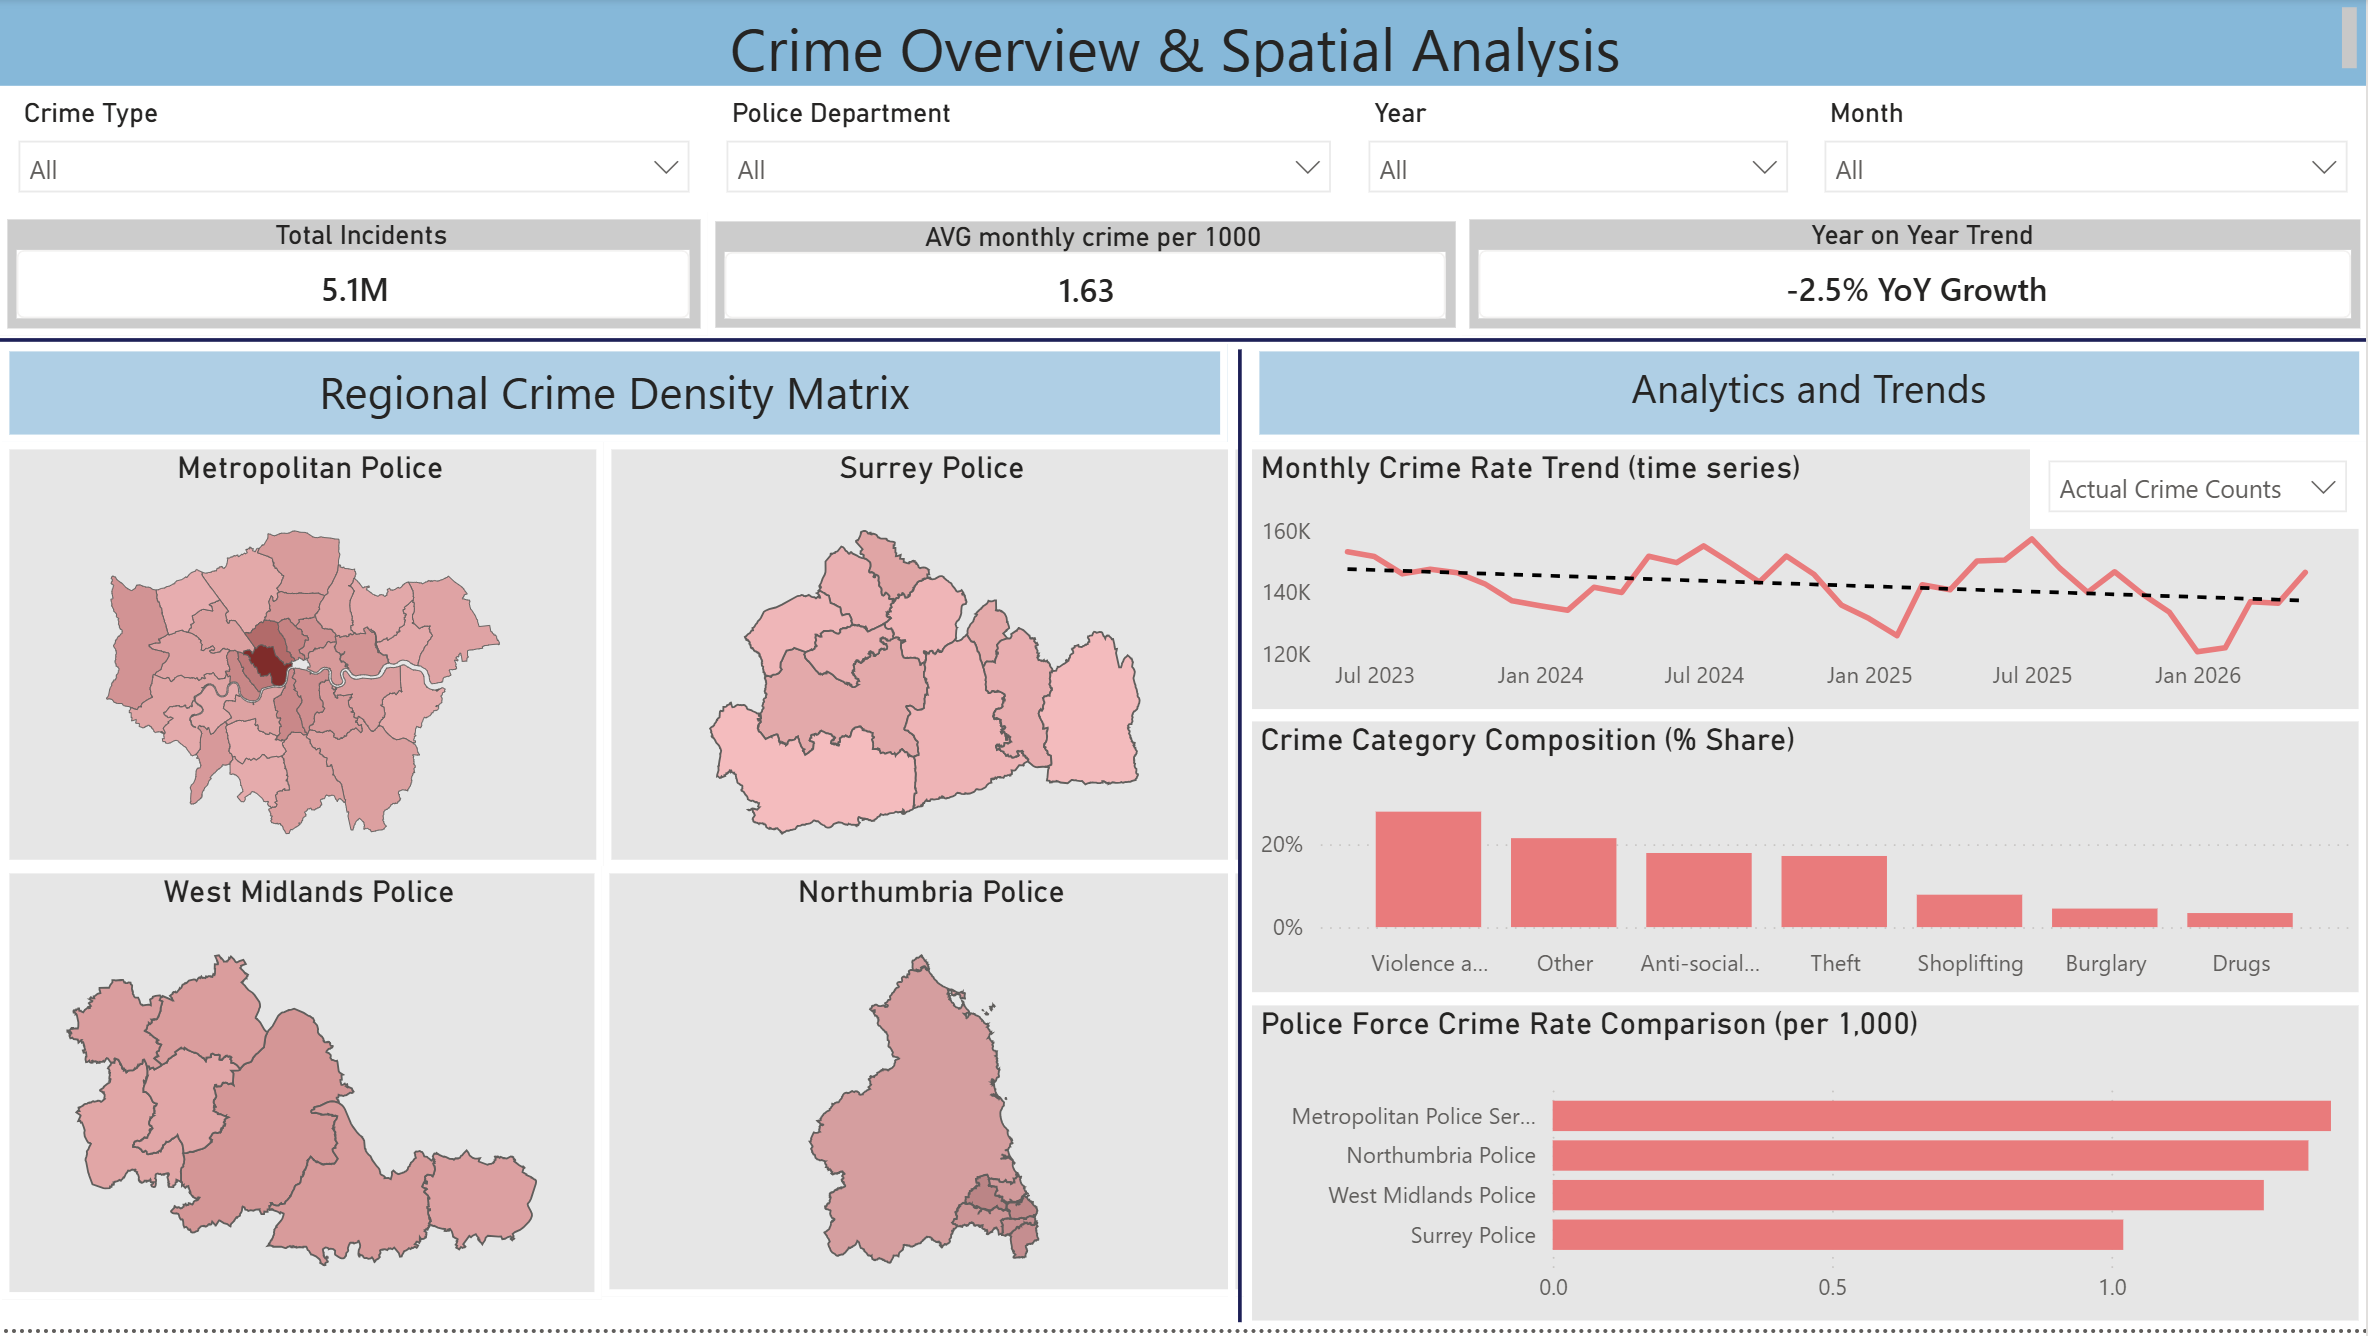

Layout of this report page (visuals, bound fields, positions):
{"tool":"powerbi","page":{"name":"Landing Page- Overview","canvas":[1280,720],"ordinal":0},"visuals":[{"type":"shapeMap","title":"Metropolitan Police","fields":{"Category":["LAD.LAD24CD"],"Value":["Sum(LAD.LogRatePer1000)"]},"box":[1.4,240,325.7,230],"z":0},{"type":"shapeMap","title":"Surrey Police","fields":{"Category":["LAD.LAD24CD"],"Value":["Sum(LAD.LogRatePer1000)"]},"box":[327.1,240,347.1,230],"z":1000},{"type":"shapeMap","title":"West Midlands Police","fields":{"Category":["LAD.LAD24CD"],"Value":["Sum(LAD.LogRatePer1000)"]},"box":[1.4,470,324.3,234.3],"z":2000},{"type":"shapeMap","title":"Northumbria Police","fields":{"Category":["LAD.LAD24CD"],"Value":["Sum(LAD.LogRatePer1000)"]},"box":[325.7,470,348.6,232.9],"z":3000},{"type":"textbox","box":[0,0,1280,47.5],"z":4000},{"type":"lineChart","title":"Monthly Crime Rate Trend (time series)","fields":{"Y":["LAD.Total Crime Count"],"Category":["LAD.MonthStartDate.Variation.Date Hierarchy.Year","LAD.MonthStartDate.Variation.Date Hierarchy.Month"]},"box":[672.9,240,607.1,148.6],"z":5000},{"type":"clusteredColumnChart","title":"Crime Category Composition (% Share)","fields":{"Category":["LAD.Crime type with other"],"Y":["Sum(LAD.crime_count)"]},"box":[672.9,387.1,607.1,154.3],"z":6000},{"type":"barChart","title":"Police Force Crime Rate Comparison (per 1,000)","fields":{"Y":["Avg(LAD.crime_rate_per_1000)"],"Category":["LAD.Falls within"]},"box":[672.9,541.4,607.1,178.6],"z":7000},{"type":"slicer","fields":{"Values":["LAD.Crime type with other"]},"box":[0,49,383,68],"z":8000},{"type":"slicer","fields":{"Values":["LAD.Falls within"]},"box":[383,49,347,68],"z":9000},{"type":"slicer","fields":{"Values":["LAD.Year"]},"box":[730,49,247,70],"z":10000},{"type":"slicer","fields":{"Values":["LAD.Month Name"]},"box":[977,49,303,69],"z":11000},{"type":"textbox","box":[1.4,187.1,662.9,52.9],"z":12000},{"type":"shape","box":[0,182.9,1280,4.3],"z":13000},{"type":"shape","box":[664.3,185.7,12.9,534.3],"z":14000},{"type":"textbox","box":[677.1,187.1,602.9,52.9],"z":15000},{"type":"slicer","fields":{"Values":["Metric Selection.Metric Selection"]},"box":[1098.6,240,181.4,47.1],"z":16000},{"type":"cardVisual","title":"AVG monthly crime per 1000","fields":{"Data":["LAD.Crime Rate Per 1000 KPI"]},"box":[382.9,117.1,408.6,65.7],"z":17000},{"type":"cardVisual","title":"Total Incidents","fields":{"Data":["LAD.Total Crimes KPI"]},"box":[0,115.7,382.9,67.1],"z":18000},{"type":"cardVisual","title":"Year on Year Trend","fields":{"Data":["LAD.MoM Crime Growth KPI"]},"box":[791.4,115.7,490,67.1],"z":19000}]}

Visuals, with their boxes in screenshot pixels (x1, y1, x2, y2), scaled from the page's 1280x720 canvas onto the 2368x1336 screenshot:
"Metropolitan Police" shapeMap: select_region(3, 445, 605, 872)
"Surrey Police" shapeMap: select_region(605, 445, 1247, 872)
"West Midlands Police" shapeMap: select_region(3, 872, 603, 1307)
"Northumbria Police" shapeMap: select_region(603, 872, 1247, 1304)
textbox: select_region(0, 0, 2367, 88)
"Monthly Crime Rate Trend (time series)" lineChart: select_region(1245, 445, 2367, 721)
"Crime Category Composition (% Share)" clusteredColumnChart: select_region(1245, 718, 2367, 1005)
"Police Force Crime Rate Comparison (per 1,000)" barChart: select_region(1245, 1005, 2367, 1335)
slicer - LAD.Crime type with other: select_region(0, 91, 709, 217)
slicer - LAD.Falls within: select_region(709, 91, 1350, 217)
slicer - LAD.Year: select_region(1350, 91, 1807, 221)
slicer - LAD.Month Name: select_region(1807, 91, 2367, 219)
textbox: select_region(3, 347, 1229, 445)
shape: select_region(0, 339, 2367, 347)
shape: select_region(1229, 345, 1253, 1335)
textbox: select_region(1253, 347, 2367, 445)
slicer - Metric Selection.Metric Selection: select_region(2032, 445, 2367, 533)
"AVG monthly crime per 1000" cardVisual: select_region(708, 217, 1464, 339)
"Total Incidents" cardVisual: select_region(0, 215, 708, 339)
"Year on Year Trend" cardVisual: select_region(1464, 215, 2367, 339)
